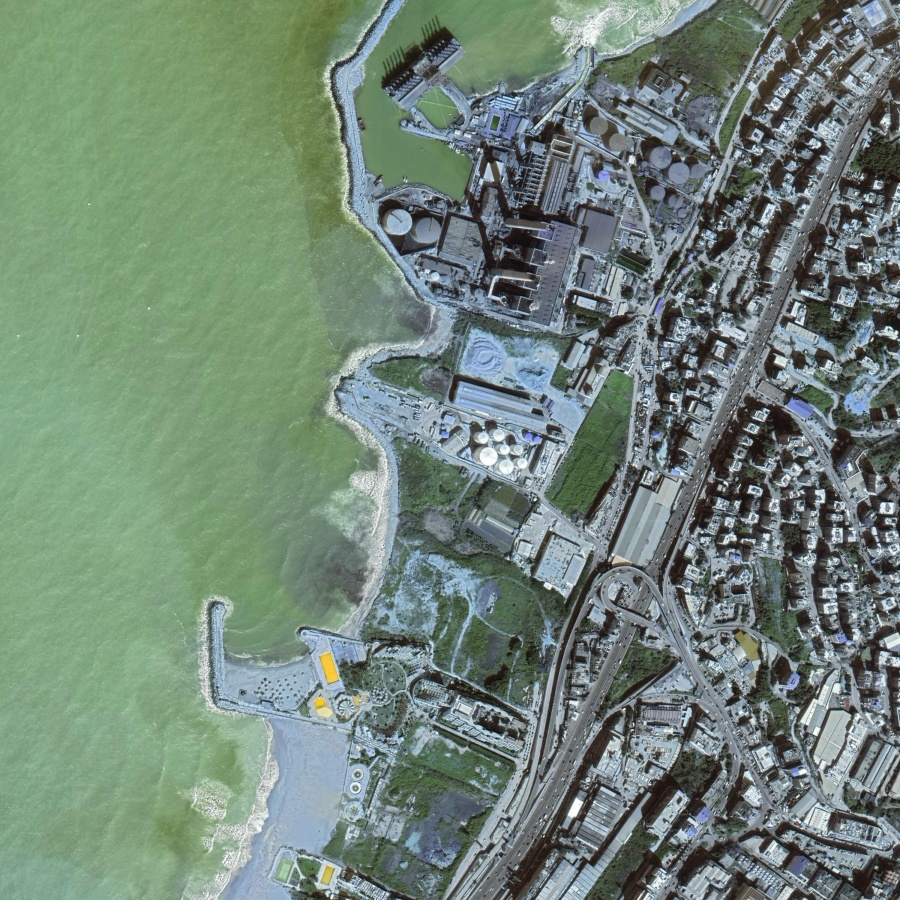PowerPlant: (370, 41, 715, 472)
